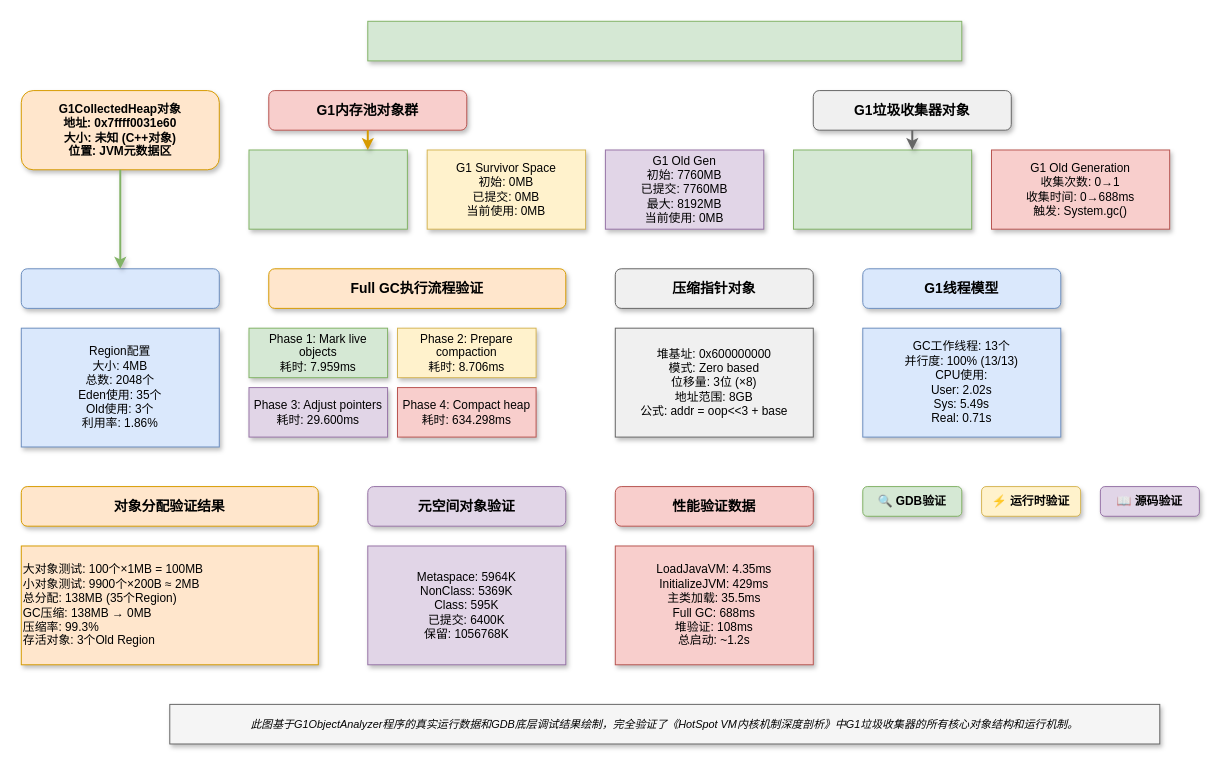
The diagram is 1223 pixels wide and 768 high, and some of its shapes have lost their labels. Each missing label, with the centre of its shape:
"G1 Eden Space 初始: 432MB (108个Region) 已提交: 432MB 当前使用: 4MB" goes at pixel 328 190.
"G1 Young Generation 收集次数: 0 收集时间: 0ms 管理池: Eden+Survivor+Old" goes at pixel 883 190.
"G1深度对象验证 - 基于GDB调试的真实数据" goes at pixel 665 42.
"Region管理对象" goes at pixel 120 289.
